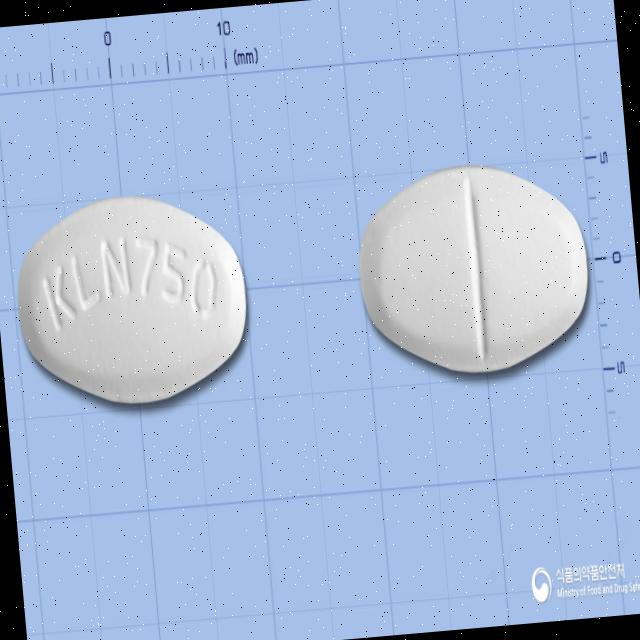Levo Plus: (9, 186, 256, 415), (351, 153, 596, 383)
